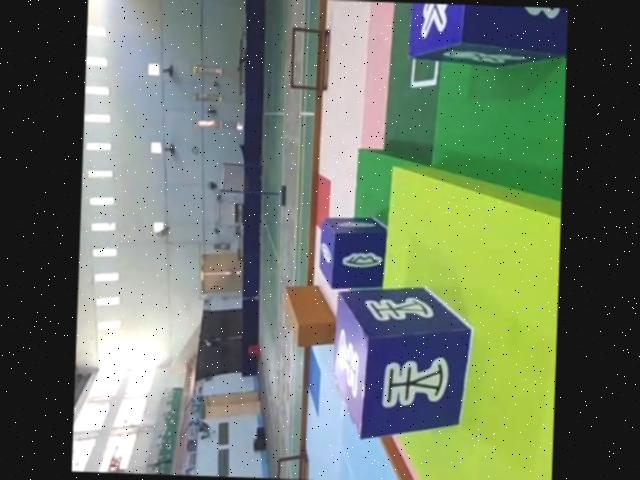R2 Real Blue: (330, 289, 475, 444), (409, 4, 568, 71), (320, 215, 393, 292)
